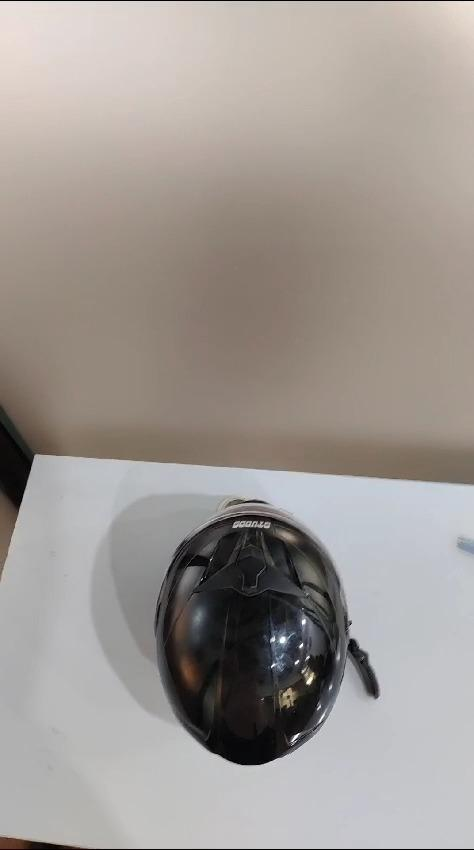Helmet: (146, 488, 372, 780)
